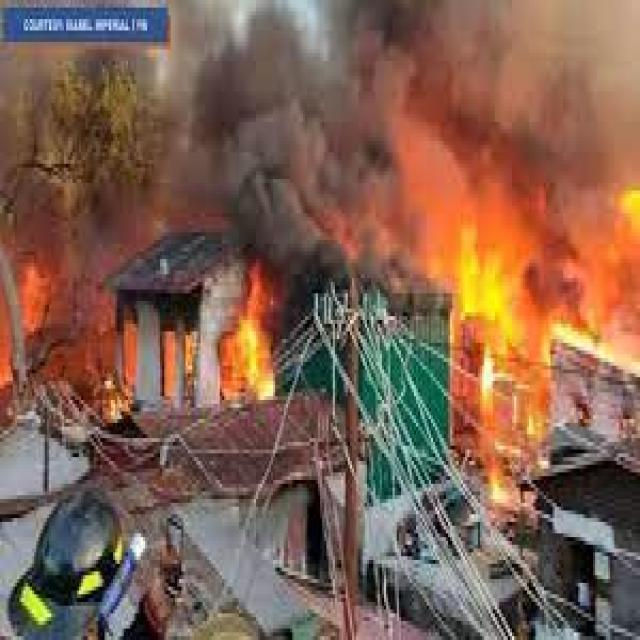Fire: (393, 125, 640, 343), (227, 276, 273, 403)
Smoke: (177, 10, 640, 242)
